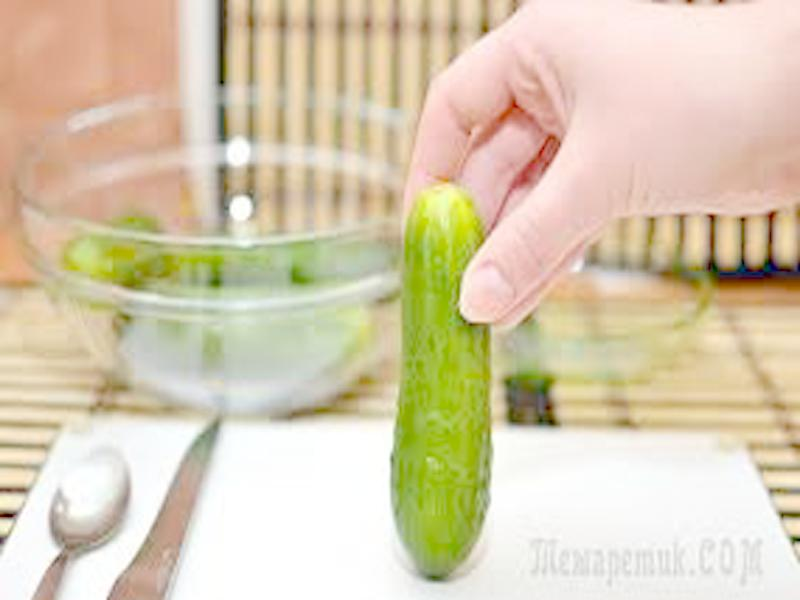Cucumber: (390, 183, 491, 576)
